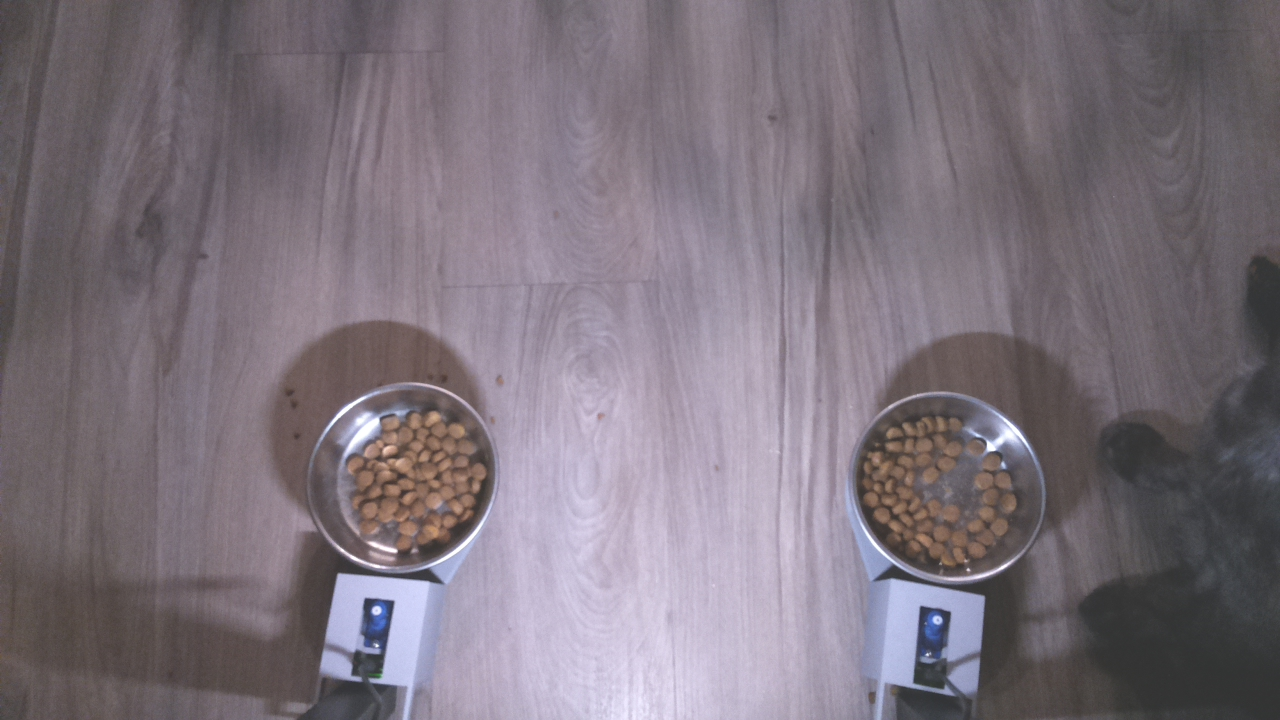open_bowl: (302, 375, 492, 587), (849, 389, 1056, 582)
